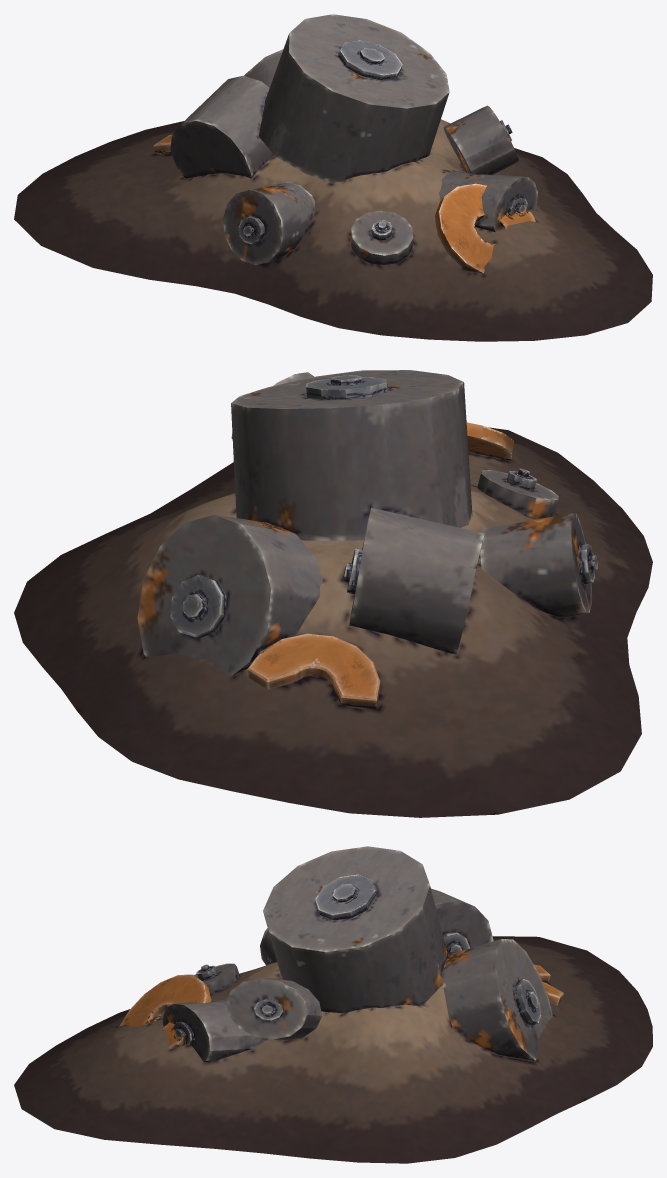
The picture shows the model from 3 angles, top to bottom: view 1: azimuth 30°, elevation 25°; view 2: azimuth 150°, elevation 25°; view 3: azimuth 270°, elevation 25°; orthographic projection. The views are drawn at different scales.
Parts seen in each view (by area): view 1: Mound, Drums, Discs, Hubs; view 2: Mound, Drums, Discs, Hubs; view 3: Mound, Drums, Hubs, Discs.
Boxes of the visible parts, <box> form: Mound: <box>14,119,652,341</box>; Drums: <box>170,14,537,265</box>; Discs: <box>153,134,535,273</box>; Hubs: <box>238,40,527,244</box>; Mound: <box>14,427,652,817</box>; Drums: <box>137,370,591,675</box>; Discs: <box>247,422,513,708</box>; Hubs: <box>170,375,597,638</box>; Mound: <box>14,936,652,1163</box>; Drums: <box>162,846,552,1062</box>; Hubs: <box>173,874,541,1044</box>; Discs: <box>119,964,563,1048</box>.
Bounding box in the file's own units: 11.89 × 4.63 × 14.13.
4 materials, 4 textured.
